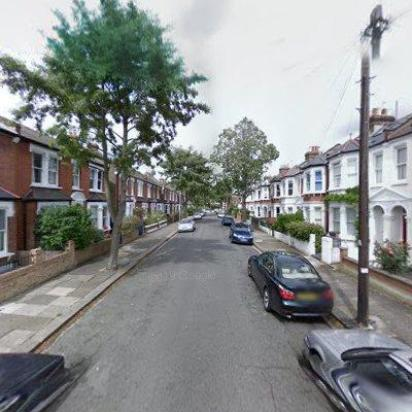stationary-car-onstreet: (300, 327, 410, 411), (246, 248, 334, 322), (0, 328, 72, 410), (228, 221, 256, 244), (177, 216, 195, 232), (222, 216, 236, 226), (193, 211, 201, 219)
